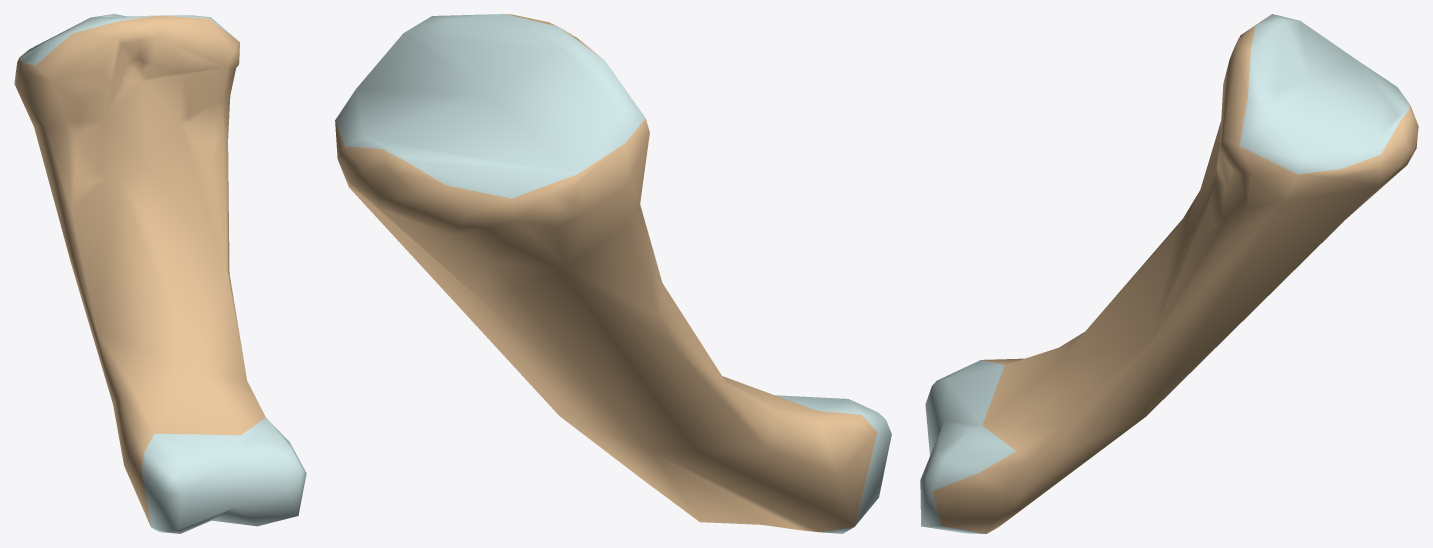
Rendered from Middle_phalanx_of_3rd_finger.r_Generated_Mesh_From_X3D.717.glb.
3 renders of one model, left to right at view 1: azimuth 30°, elevation 25°; view 2: azimuth 150°, elevation 25°; view 3: azimuth 270°, elevation 25°, orthographic. The views are drawn at different scales.
Visible parts, largest first — view 1: Middle_phalanx_of_3rd_finger.r_Generated_Mesh_From_X3D.717; view 2: Middle_phalanx_of_3rd_finger.r_Generated_Mesh_From_X3D.717; view 3: Middle_phalanx_of_3rd_finger.r_Generated_Mesh_From_X3D.717.
Boxes of the visible parts, box(x1,y1,x2,y2) form: Middle_phalanx_of_3rd_finger.r_Generated_Mesh_From_X3D.717: box(14, 14, 306, 533); Middle_phalanx_of_3rd_finger.r_Generated_Mesh_From_X3D.717: box(335, 14, 891, 533); Middle_phalanx_of_3rd_finger.r_Generated_Mesh_From_X3D.717: box(920, 14, 1418, 533).
Bounding box in the file's own units: 0.0142 × 0.0263 × 0.0238.
